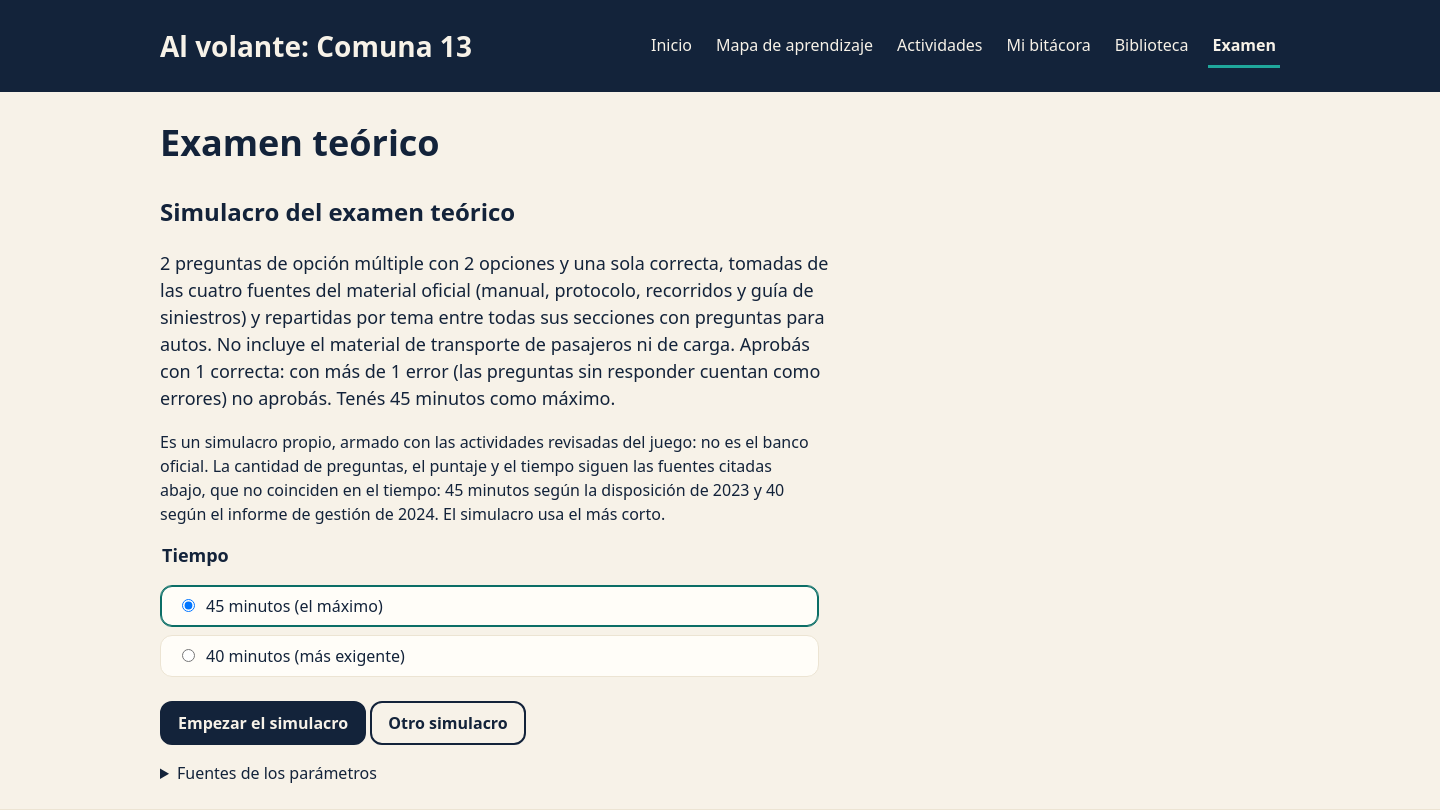
Test case: update prompt during exams › waits for the theory paper to be handed in
Click the button "Empezar el simulacro". click: coordinates (263, 723)
box: [160,701,366,745]
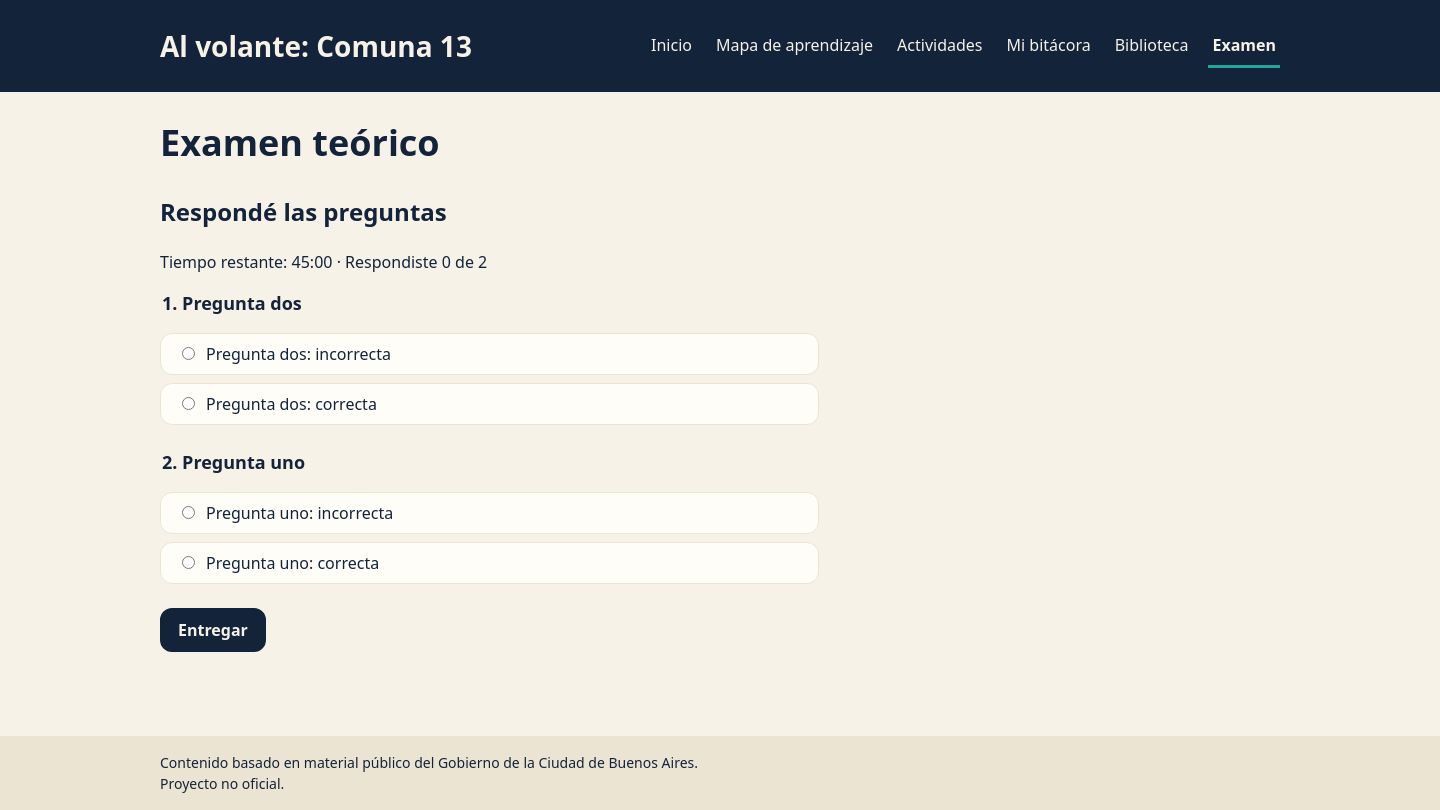
Click the button "Entregar". click: coordinates (213, 630)
box: [160,608,266,652]
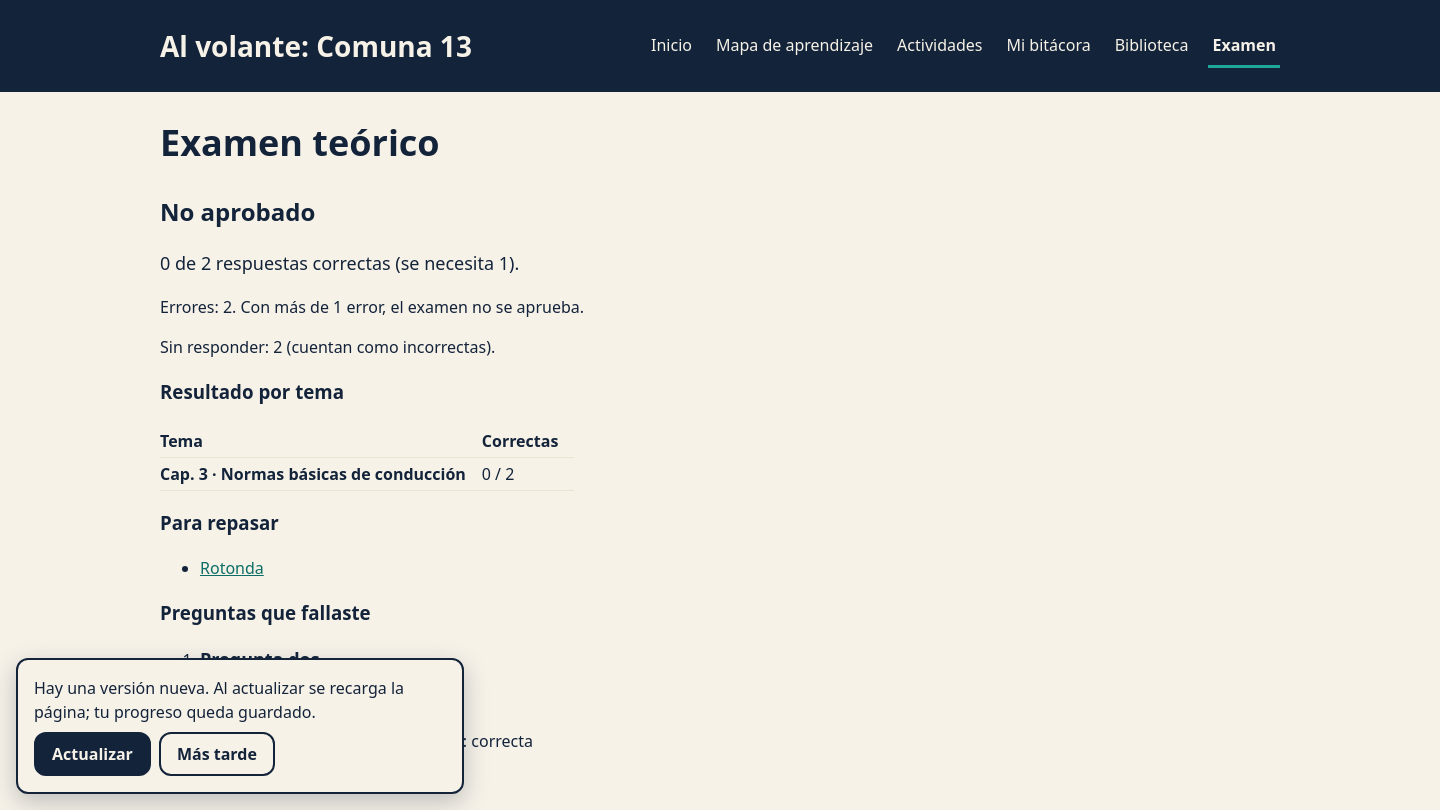
Now the button "Actualizar" is shown, box [34,732,151,776]
